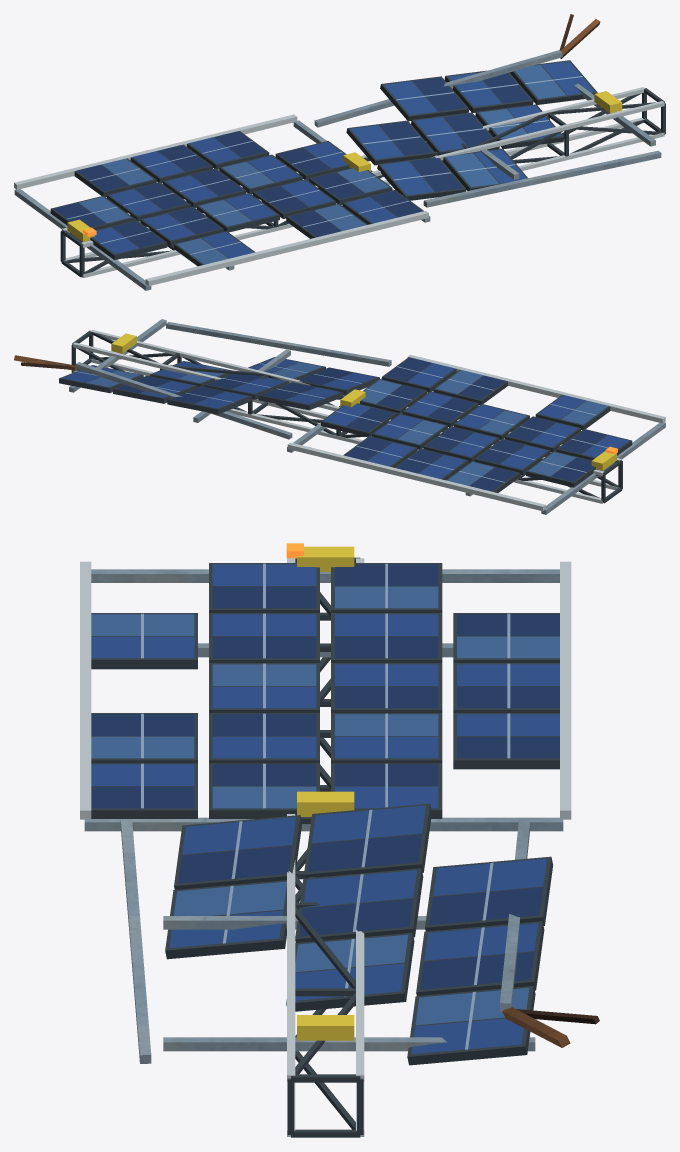
Rendered from solar_array_fragment.glb.
3 views of the same model, one above another, from view 1: azimuth 30°, elevation 25°; view 2: azimuth 150°, elevation 25°; view 3: azimuth 270°, elevation 25° (orthographic). The views are drawn at different scales.
Visible parts, largest first — view 1: Hull; view 2: Hull; view 3: Hull.
Boxes of the visible parts, x1=… form: Hull: x1=14, y1=14, x2=665, y2=290; Hull: x1=14, y1=319, x2=665, y2=514; Hull: x1=80, y1=543, x2=599, y2=1137.
Bounding box in the file's own units: 12 × 1.2 × 5.
11 materials, 3 textured.
